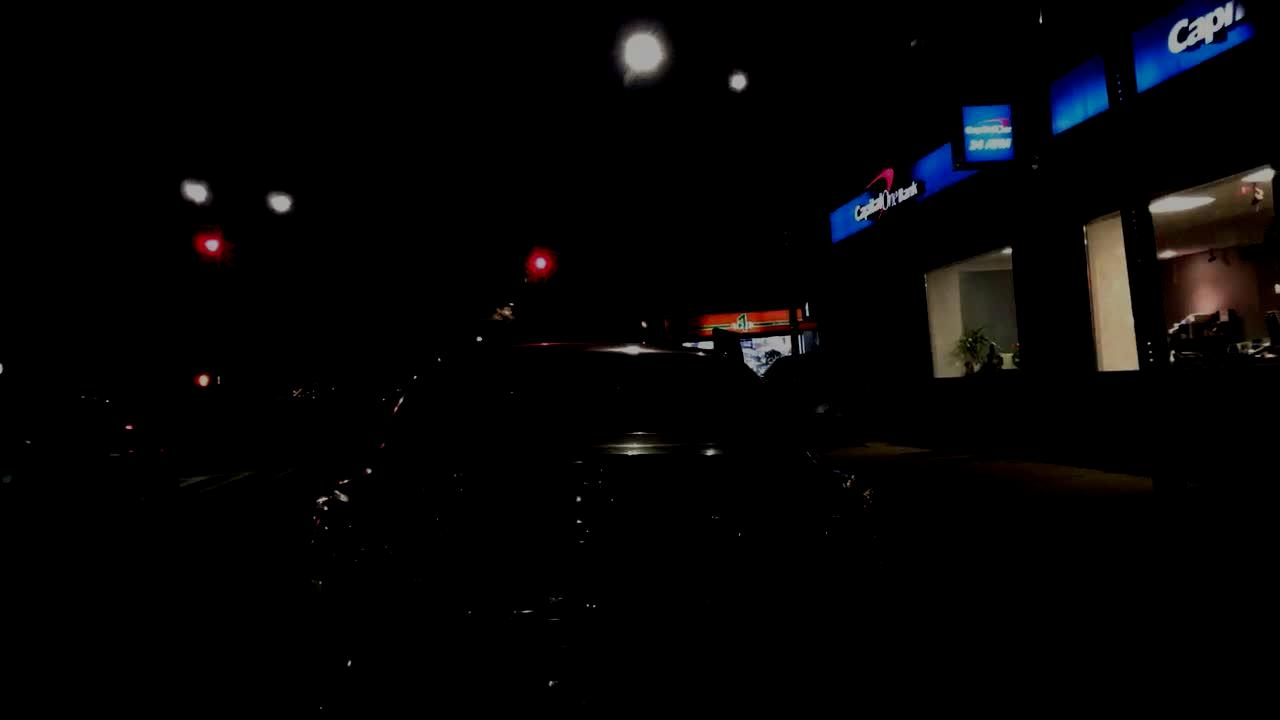Nissan: (580, 464, 639, 505)
